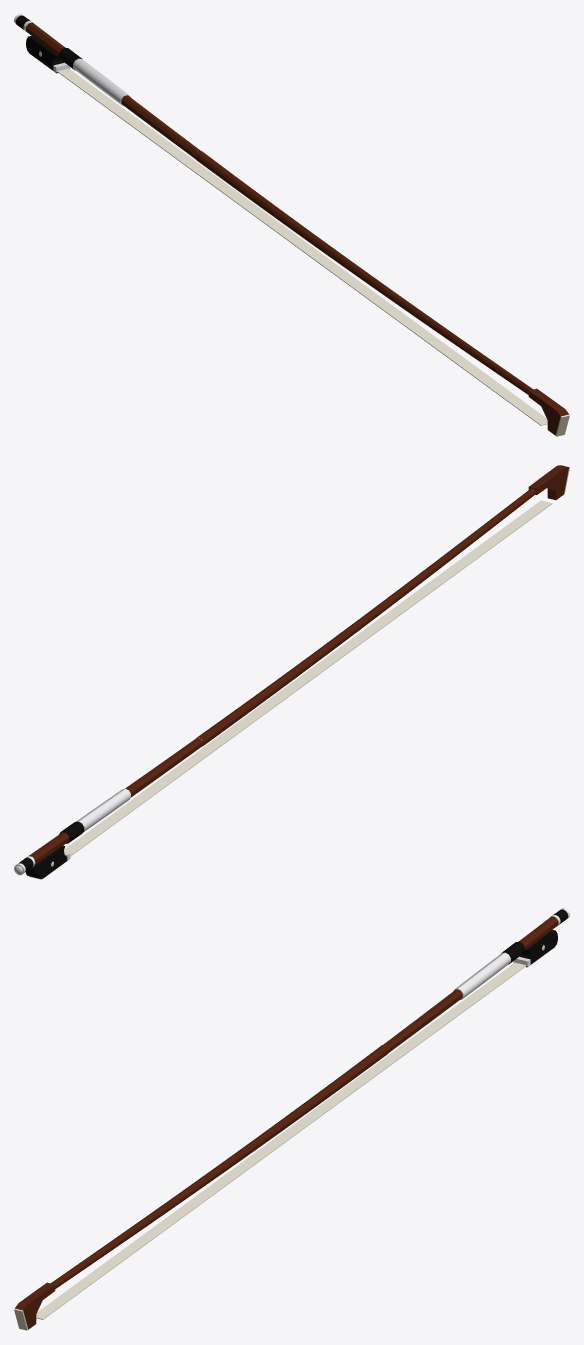
Rendered from violin_bow.glb.
3 renders of one model, top to bottom at view 1: azimuth 30°, elevation 25°; view 2: azimuth 150°, elevation 25°; view 3: azimuth 330°, elevation 25°, orthographic.
Visible parts, largest first — view 1: violin_bow_pernambuco, violin_bow_hair, violin_bow_silver, violin_bow_ebony; view 2: violin_bow_pernambuco, violin_bow_hair, violin_bow_ebony, violin_bow_silver; view 3: violin_bow_pernambuco, violin_bow_hair, violin_bow_silver, violin_bow_ebony.
Part boxes in pixels (x1,y1,x2,y2): violin_bow_pernambuco: (25,22,568,435); violin_bow_hair: (57,68,547,425); violin_bow_silver: (14,14,130,105); violin_bow_ebony: (16,15,82,73); violin_bow_pernambuco: (29,465,568,864); violin_bow_hair: (64,500,552,856); violin_bow_ebony: (19,821,84,878); violin_bow_silver: (14,788,130,879); violin_bow_pernambuco: (15,916,558,1329); violin_bow_hair: (36,962,526,1319); violin_bow_silver: (453,908,569,999); violin_bow_ebony: (501,909,567,967).
Bounding box in the file's own units: 0.0117 × 0.0211 × 0.7874.
